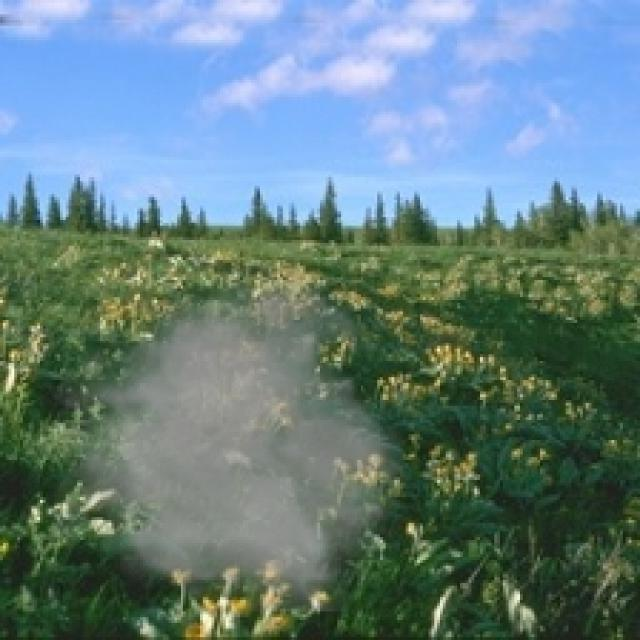Smoke: (48, 254, 414, 612)
